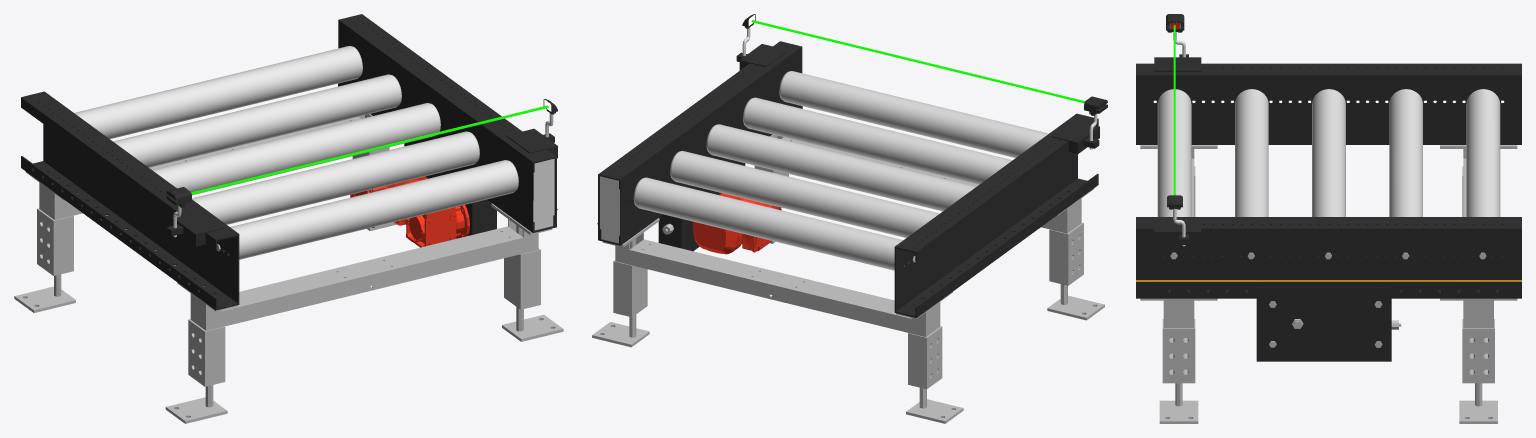
File: realvirtual_roll_conveyor_1m.glb
3 renders of one model, left to right at view 1: azimuth 30°, elevation 25°; view 2: azimuth 150°, elevation 25°; view 3: azimuth 270°, elevation 25°, orthographic. The views are drawn at different scales.
Parts seen in each view (by area): view 1: Base, Transport-Z, DriveMesh, Light, Ray, Reflector; view 2: Base, Transport-Z, DriveMesh, Light, Ray, Reflector; view 3: Base, Transport-Z, Reflector, Light, Ray.
Part boxes in pixels (left/top/right/bottom): Base: left=14, top=14, right=563, bottom=423; Transport-Z: left=74, top=46, right=518, bottom=259; DriveMesh: left=350, top=176, right=469, bottom=247; Light: left=166, top=187, right=223, bottom=246; Ray: left=191, top=105, right=548, bottom=194; Reflector: left=506, top=99, right=557, bottom=158; Base: left=592, top=41, right=1104, bottom=423; Transport-Z: left=633, top=71, right=1048, bottom=270; DriveMesh: left=693, top=193, right=781, bottom=254; Light: left=1052, top=96, right=1107, bottom=153; Ray: left=751, top=20, right=1084, bottom=103; Reflector: left=736, top=14, right=787, bottom=70; Base: left=1136, top=63, right=1521, bottom=423; Transport-Z: left=1157, top=89, right=1500, bottom=216; Reflector: left=1154, top=195, right=1201, bottom=246; Light: left=1154, top=14, right=1201, bottom=71; Ray: left=1173, top=25, right=1175, bottom=195.
Bounding box in the file's own units: 1.14 × 0.6423 × 1.
